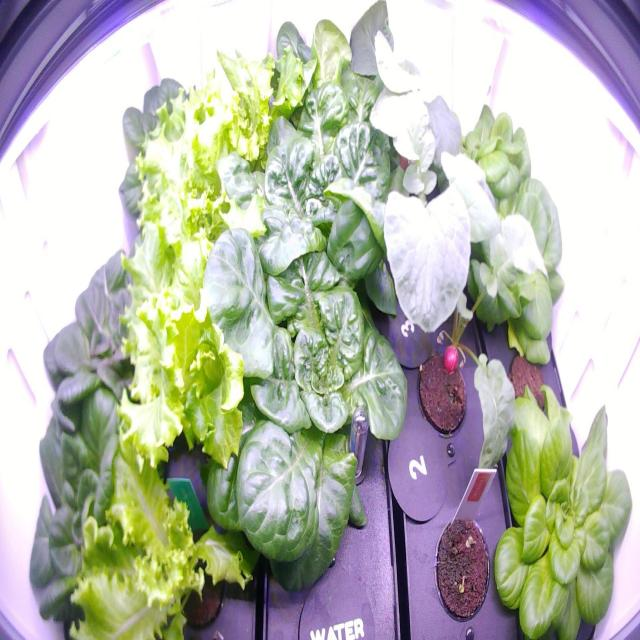Ready: (189, 97, 420, 341), (236, 4, 409, 170)
young: (172, 212, 424, 609), (24, 223, 206, 469), (476, 363, 633, 640), (18, 363, 158, 634), (454, 161, 585, 367), (112, 57, 250, 250), (422, 95, 544, 252)
